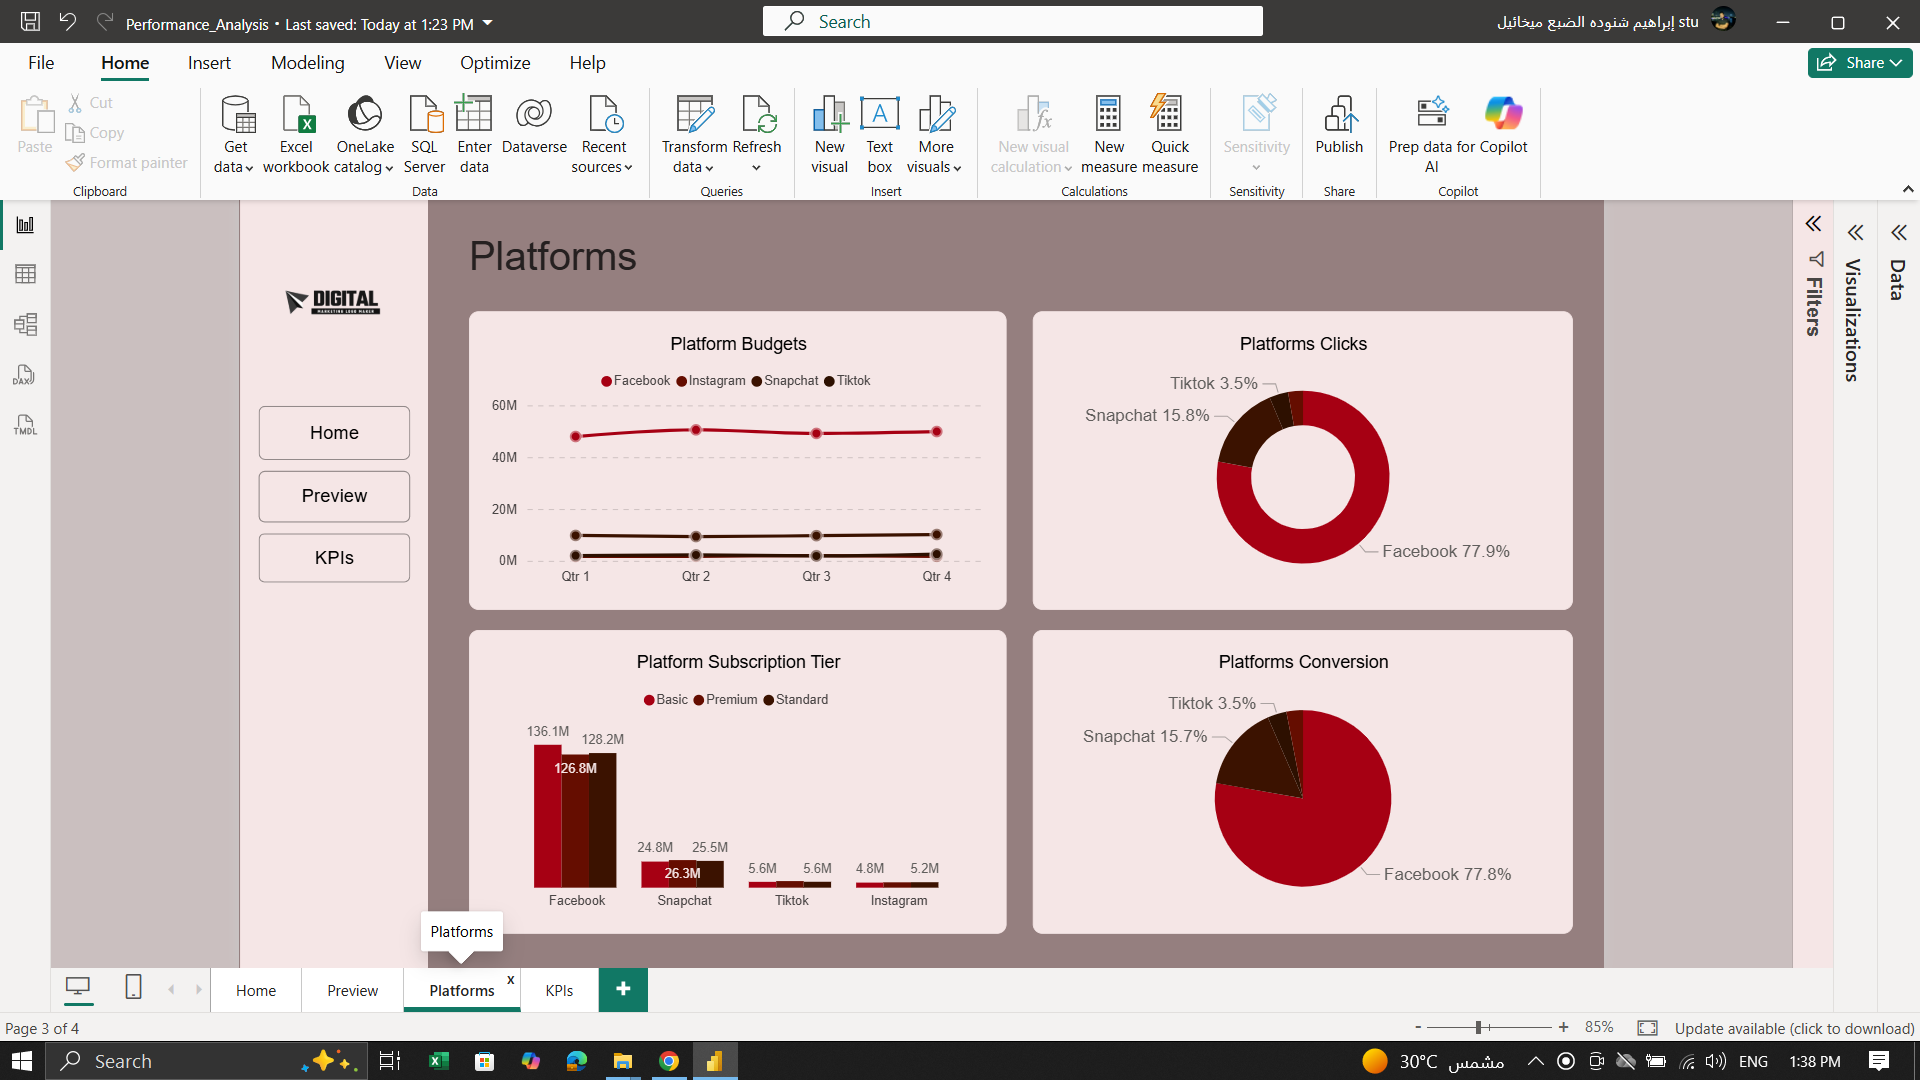

The page's visual inventory and layout, read from the dashboard file:
{"tool":"powerbi","page":{"name":"Platforms","canvas":[1280,720],"ordinal":2},"visuals":[{"type":"pieChart","title":"Platforms Conversion","fields":{"Category":["marketing_and_product_performance.Platform"],"Y":["MeasureTable.TotalConversion"]},"box":[744.2,403.1,506.3,284.8],"z":0},{"type":"shape","box":[1.2,0,176,720],"z":1000},{"type":"donutChart","title":"Platforms Clicks","fields":{"Category":["marketing_and_product_performance.Platform"],"Y":["MeasureTable.TotalClicks"]},"box":[744.2,104.3,506.3,280.1],"z":2000},{"type":"lineChart","title":"Platform Budgets","fields":{"Y":["MeasureTable.TotalBudget"],"Category":["marketing_and_product_performance.Date.Variation.Date Hierarchy.Quarter"],"Series":["marketing_and_product_performance.Platform"]},"box":[215.6,104.3,503.9,280.1],"z":3000},{"type":"textbox","title":"Page title","box":[216,32,440,48],"z":4000},{"type":"clusteredColumnChart","title":"Platform Subscription Tier ","fields":{"Category":["marketing_and_product_performance.Platform"],"Y":["MeasureTable.TotalRevenue"],"Series":["marketing_and_product_performance.Subscription_Tier"]},"box":[215.6,403.1,503.9,284.8],"z":5000},{"type":"image","box":[0,0,175.8,192.2],"z":6000},{"type":"actionButton","box":[17.6,311.7,144.1,48],"z":7000},{"type":"actionButton","box":[17.6,253.1,144.1,50.4],"z":8000},{"type":"actionButton","box":[17.6,192.2,144.1,52.7],"z":9000}]}

Visuals, with their boxes on the page's 1280x720 design canvas (x1, y1, x2, y2). These are canvas units, not pixel positions in the 1920x1080 screenshot, which may show the page scaled, cropped or inside an application window:
"Platforms Conversion" pieChart: 744/403/1250/688
shape: 1/0/177/720
"Platforms Clicks" donutChart: 744/104/1250/384
"Platform Budgets" lineChart: 216/104/720/384
"Page title" textbox: 216/32/656/80
"Platform Subscription Tier " clusteredColumnChart: 216/403/720/688
image: 0/0/176/192
actionButton: 18/312/162/360
actionButton: 18/253/162/304
actionButton: 18/192/162/245
